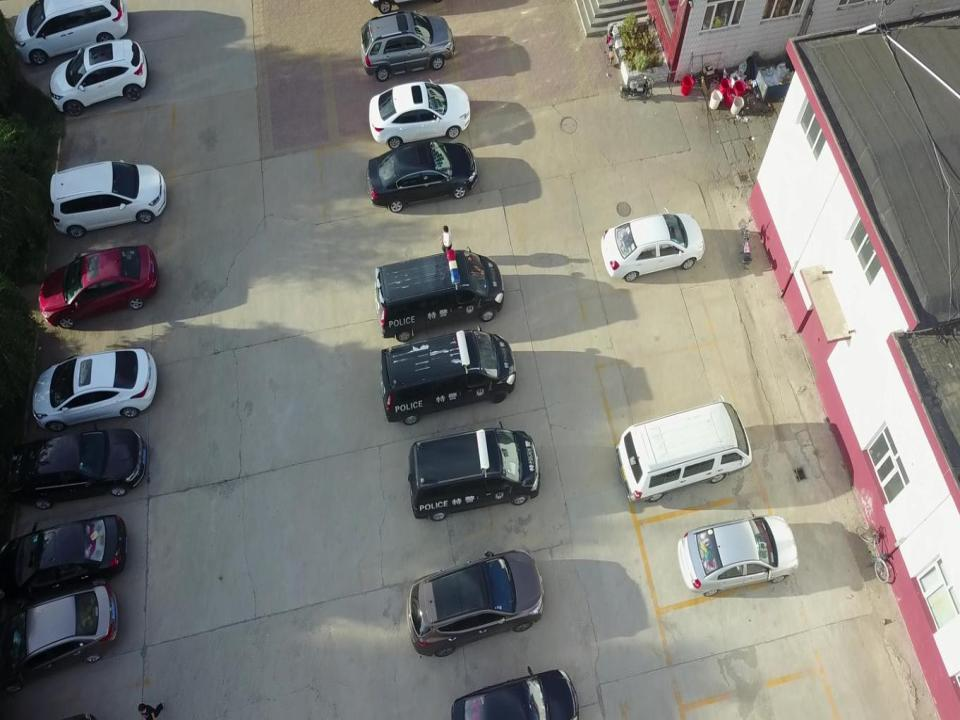car: (408, 547, 543, 658), (0, 585, 116, 692), (9, 428, 146, 510), (0, 513, 126, 600), (678, 509, 798, 599), (32, 347, 157, 431), (38, 243, 158, 327), (50, 157, 166, 235), (367, 140, 477, 212), (600, 207, 704, 281), (50, 38, 147, 116), (13, 0, 128, 65), (449, 663, 579, 720), (368, 78, 470, 147), (359, 10, 454, 82)
van: (615, 395, 752, 502), (380, 326, 516, 426), (407, 422, 539, 520), (375, 246, 504, 340)
